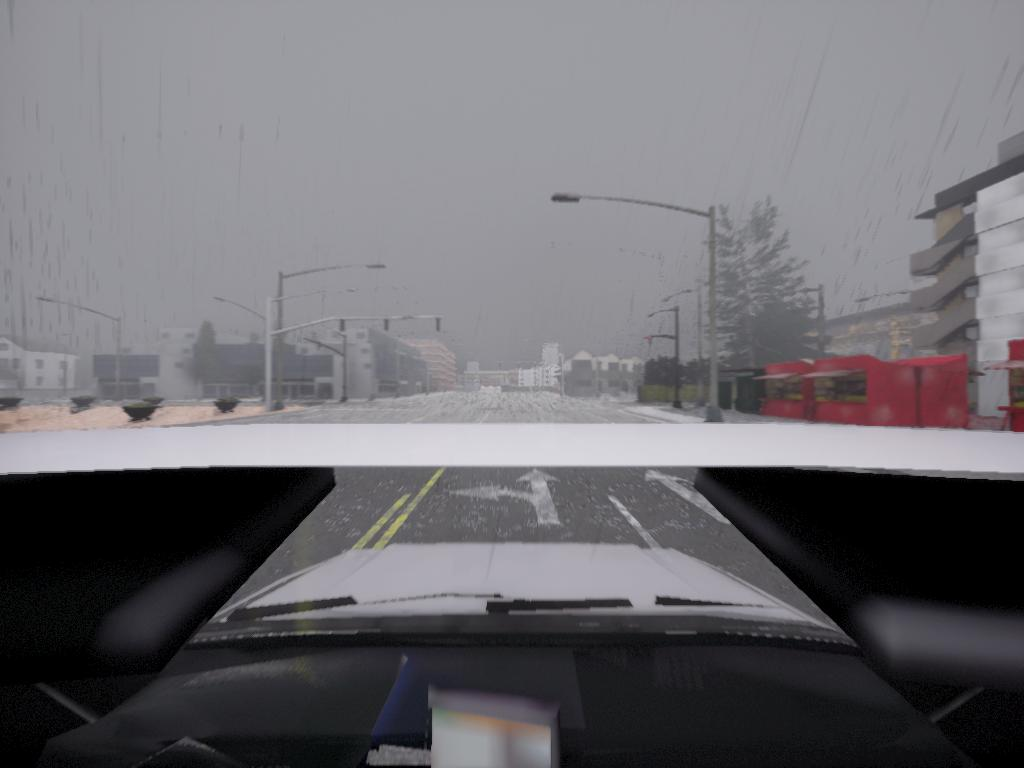traffic_light: (436, 318, 443, 333), (340, 319, 346, 333), (385, 319, 390, 332), (534, 362, 537, 369), (518, 363, 521, 369), (500, 363, 502, 368)
